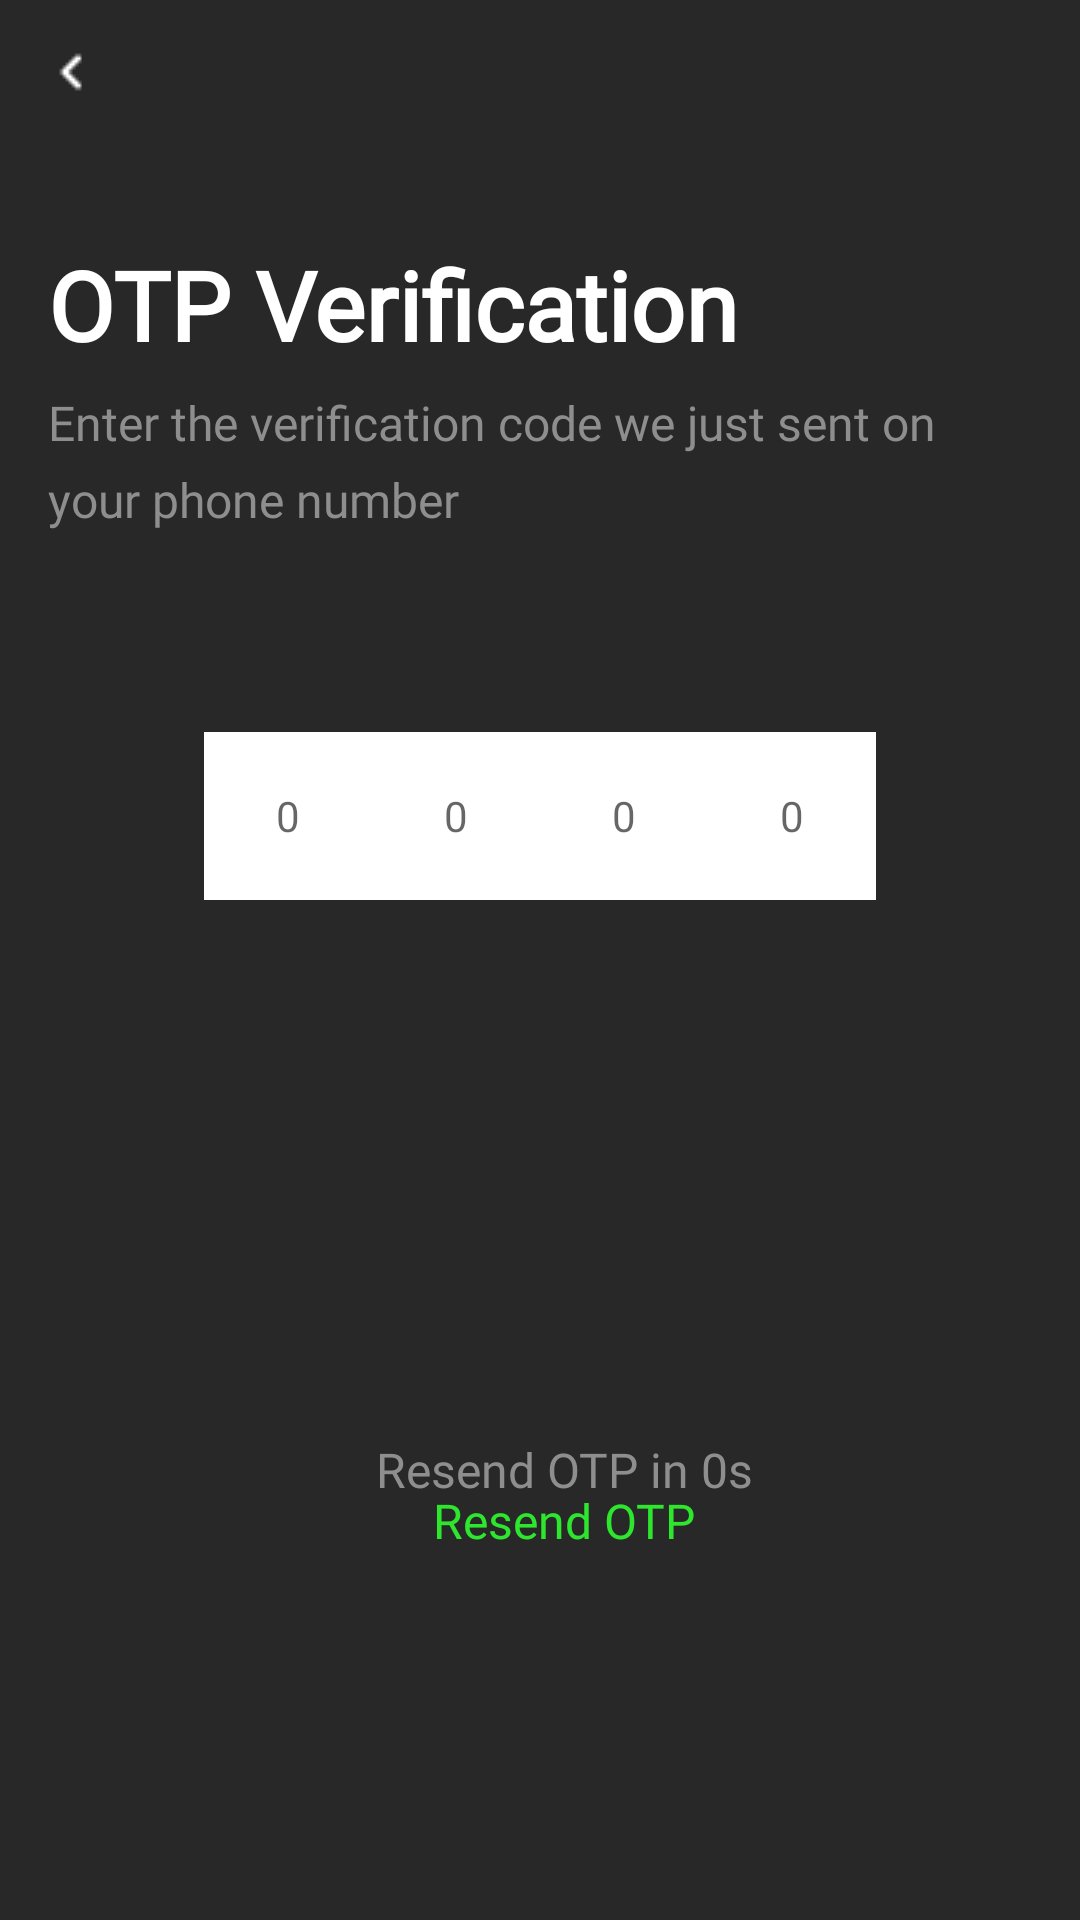

Named icons in this screenshot (1080×1920) and their centers, (x,y):
left: (70,72)
